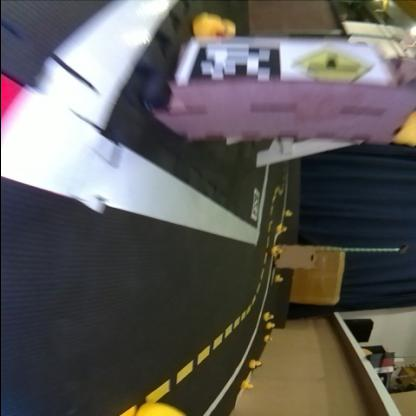Duckie: (192, 14, 235, 38), (137, 403, 187, 415), (249, 360, 261, 369), (264, 312, 274, 322), (240, 382, 253, 389), (272, 247, 282, 256), (276, 228, 284, 234), (266, 324, 274, 330), (264, 336, 272, 342), (285, 211, 292, 217), (274, 277, 282, 282)
Intersection sign: (285, 40, 385, 84)
QR code: (188, 39, 279, 82), (250, 190, 260, 221)
